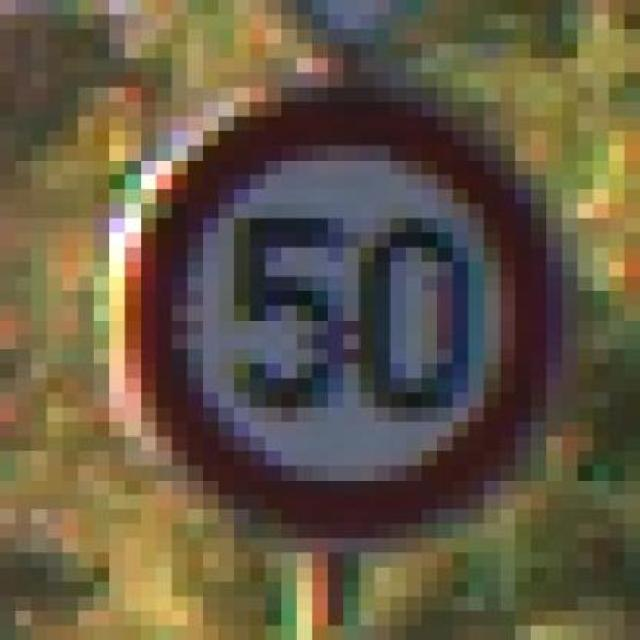forb_speed_over_50: (136, 89, 555, 535)
